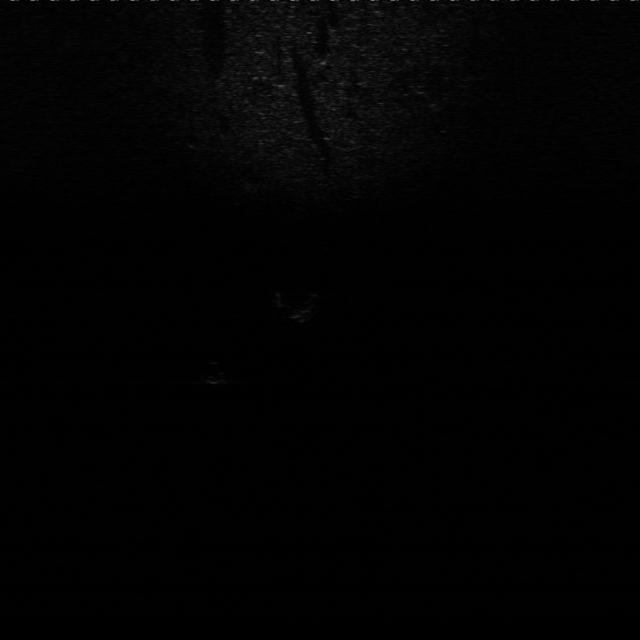ball: (196, 359, 233, 386)
human body: (269, 290, 323, 322)
